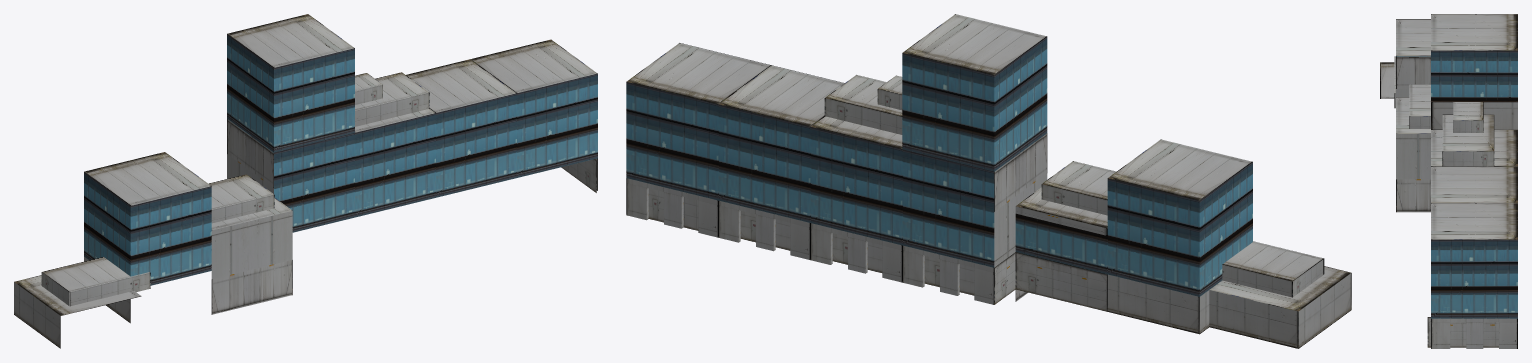
The model's file is building.fbx.
The picture shows the model from 3 angles, left to right: view 1: azimuth 30°, elevation 25°; view 2: azimuth 150°, elevation 25°; view 3: azimuth 270°, elevation 25°; orthographic projection. The views are drawn at different scales.
Visible parts, largest first — view 1: pCube69; view 2: pCube69; view 3: pCube69.
Boxes of the visible parts, x1,y1,x2,y2 form: pCube69: (14, 14, 597, 348); pCube69: (626, 14, 1351, 348); pCube69: (1380, 14, 1517, 348).
Bounding box in the file's own units: 52.62 × 19 × 11.97.
Materials: 2 (2 with a texture image).
